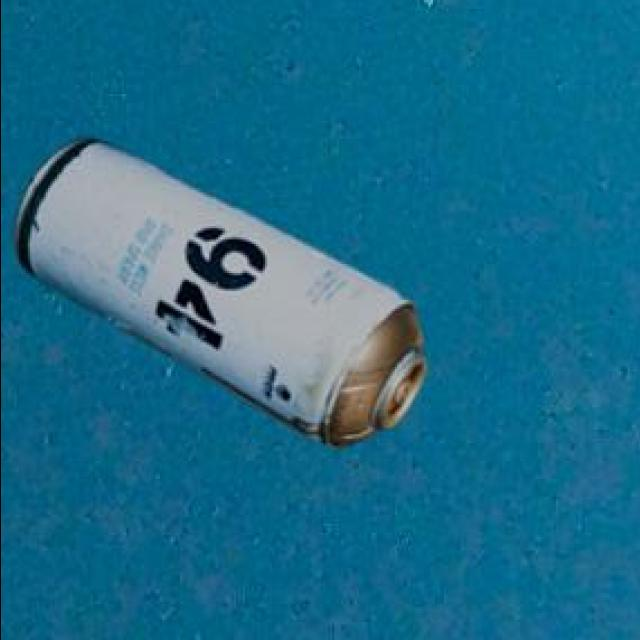logam: (17, 135, 429, 444)
